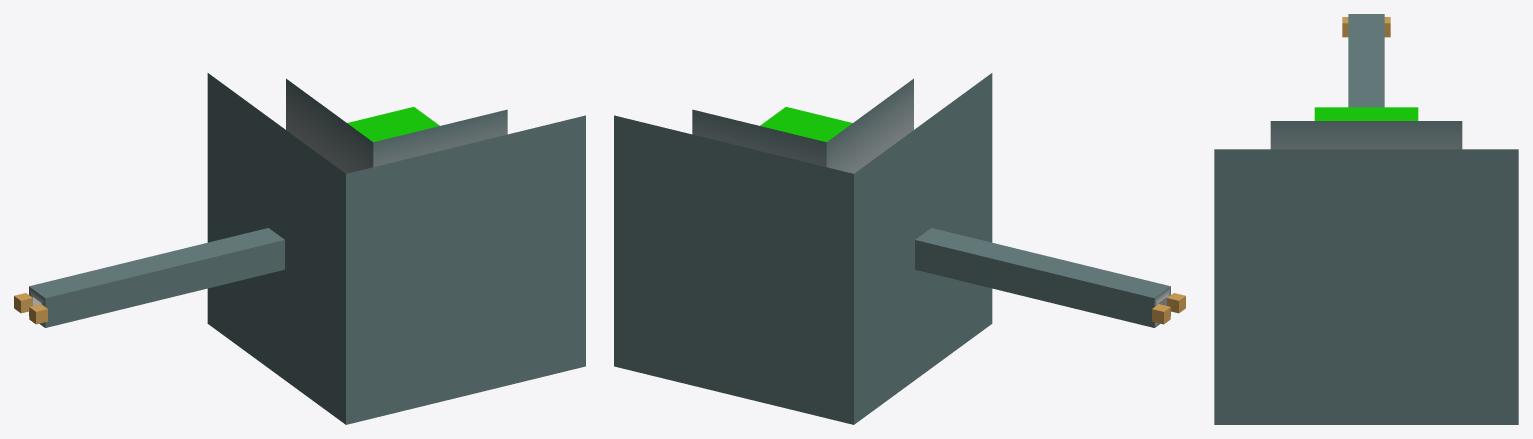
The model's file is SimpleSpaceship.glb.
3 views of the same model, side by side, from view 1: azimuth 30°, elevation 25°; view 2: azimuth 150°, elevation 25°; view 3: azimuth 270°, elevation 25° (orthographic). The views are drawn at different scales.
Parts seen in each view (by area): view 1: Simple Spaceship, PlasmaTurret, CPU,Example Program; view 2: Simple Spaceship, PlasmaTurret, CPU,Example Program; view 3: Simple Spaceship, PlasmaTurret, CPU,Example Program.
Part boxes in pixels (x1,y1,x2,y2): Simple Spaceship: (207, 73, 585, 424); PlasmaTurret: (14, 228, 284, 327); CPU,Example Program: (347, 107, 439, 142); Simple Spaceship: (614, 73, 992, 424); PlasmaTurret: (915, 228, 1185, 327); CPU,Example Program: (760, 107, 852, 142); Simple Spaceship: (1214, 121, 1518, 424); PlasmaTurret: (1342, 14, 1390, 107); CPU,Example Program: (1314, 107, 1418, 120).
Size of the model in its own units: 4.1 by 2 by 2.
